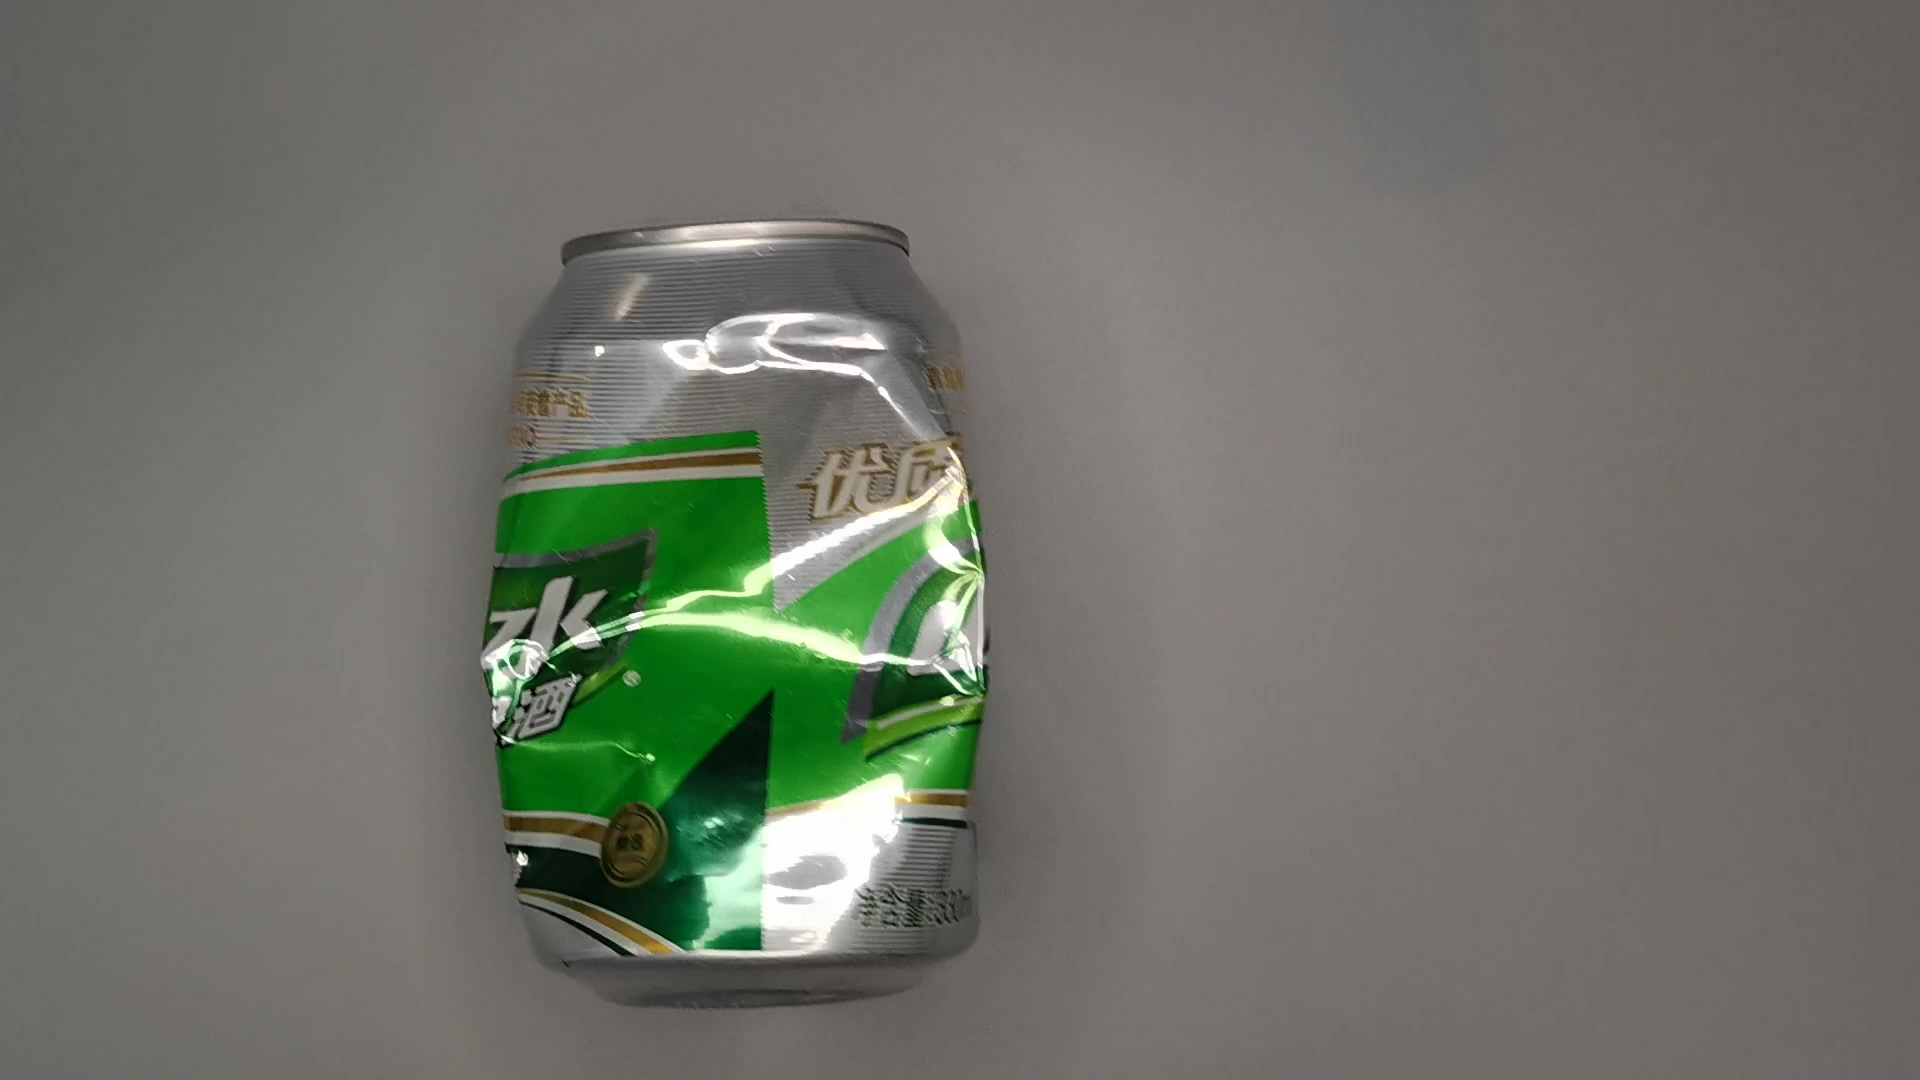can: (451, 206, 1011, 990)
